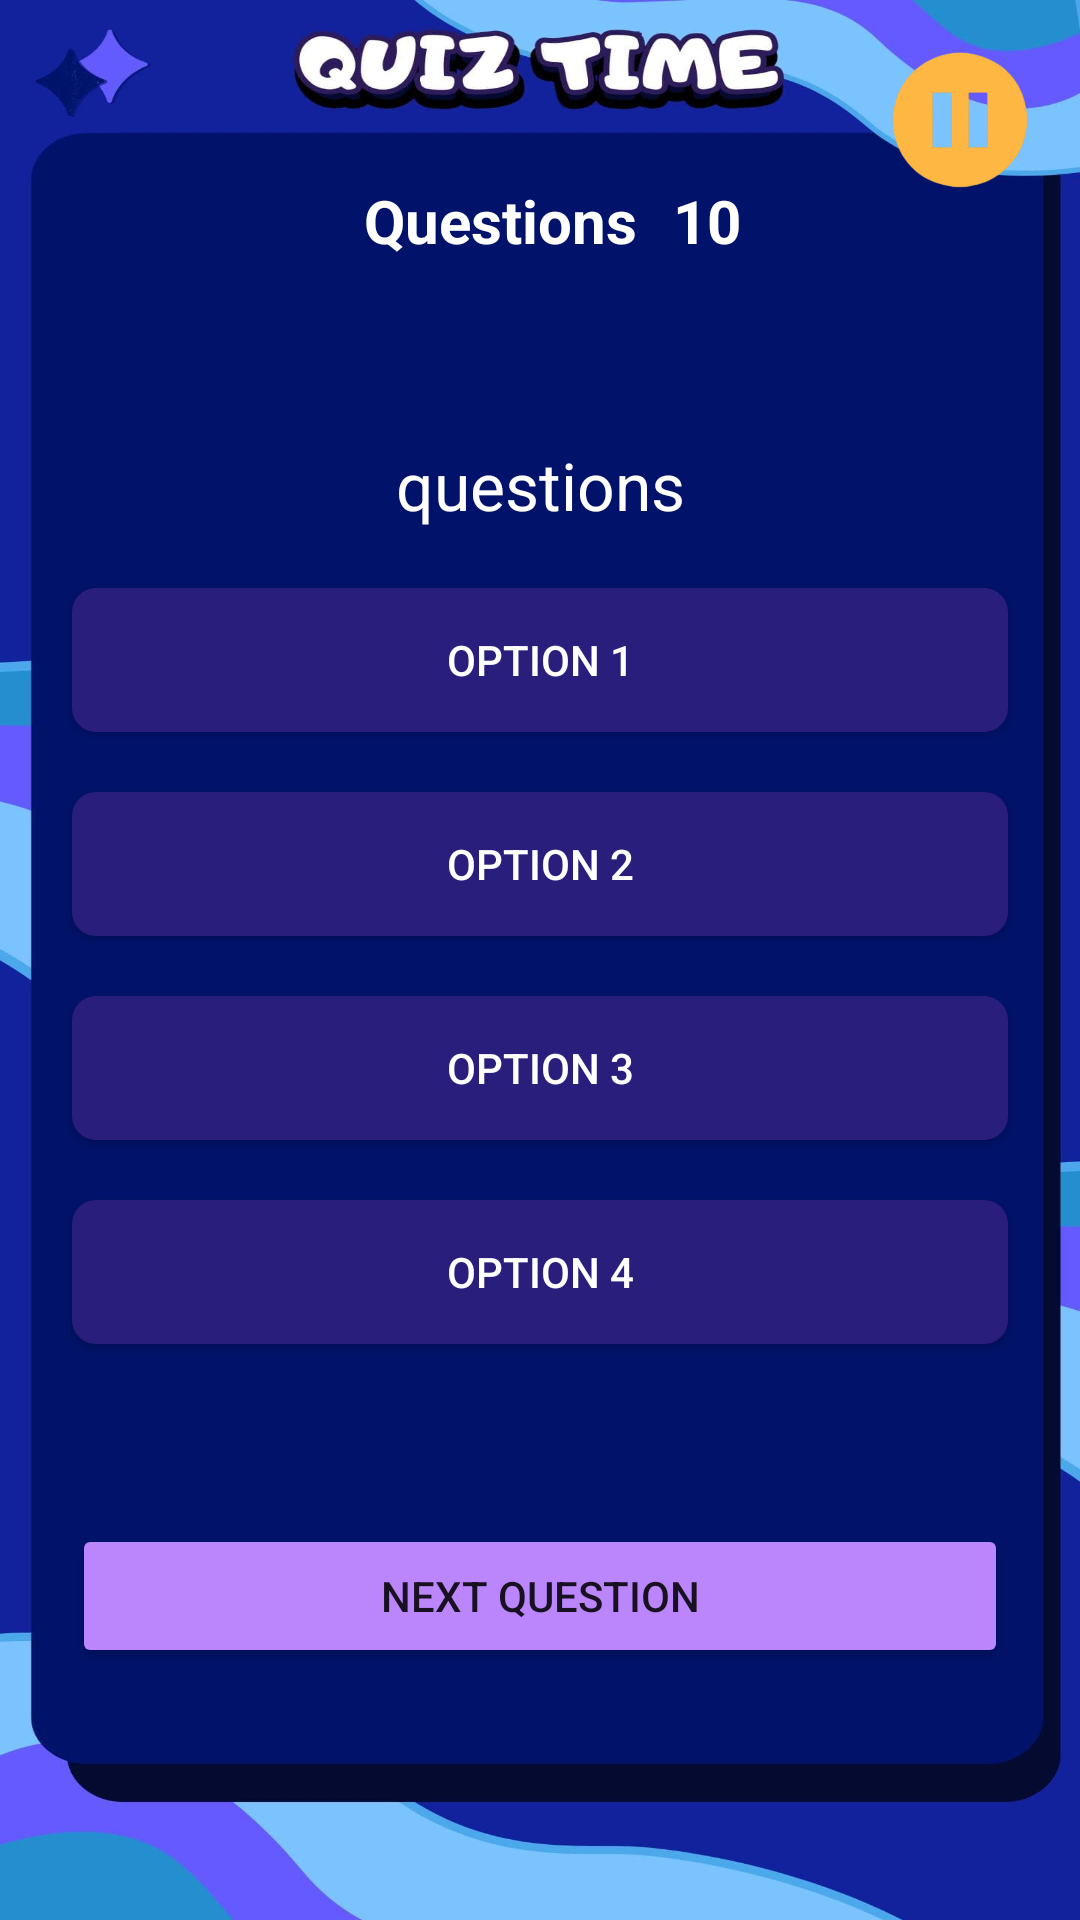

Icon click points for this 1080 × 1920 phone screenshot, format [x,y]:
pause: [960,120]
